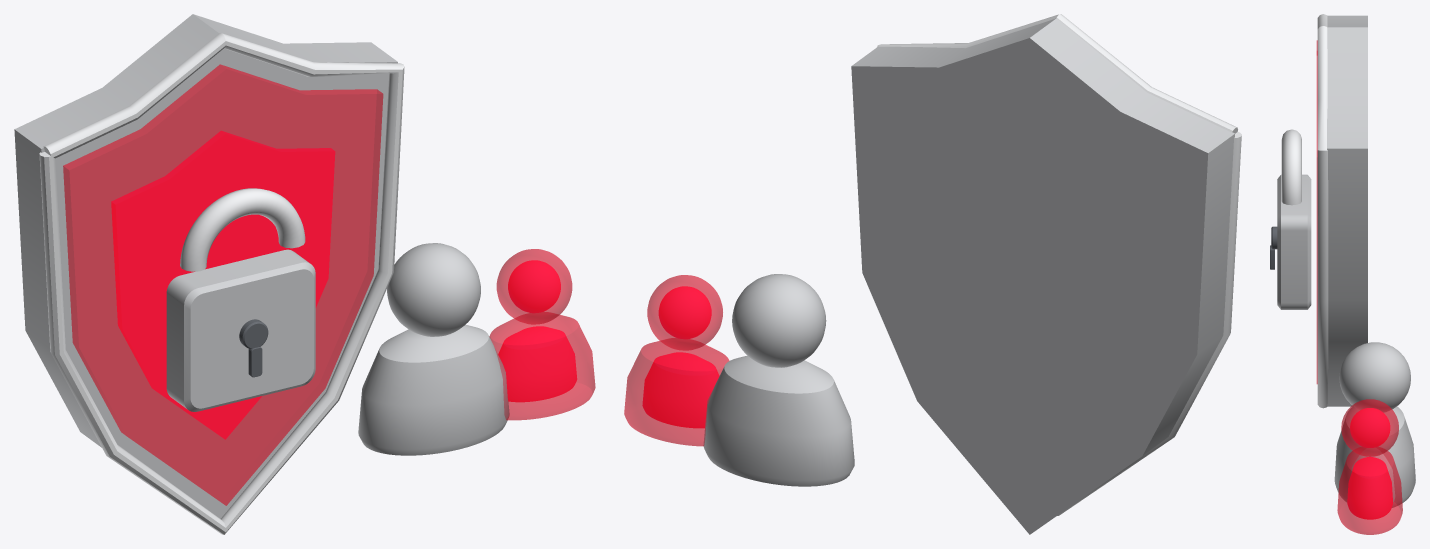
The model's file is 37-access-control.glb.
3 renders of one model, left to right at view 1: azimuth 30°, elevation 25°; view 2: azimuth 150°, elevation 25°; view 3: azimuth 270°, elevation 25°, orthographic. The views are drawn at different scales.
Parts seen in each view (by area): view 1: BC satin iron, BC ruby optical glass, BC internal ruby light, BC polished iron bevel, BC recessed iron; view 2: BC satin iron, BC ruby optical glass, BC internal ruby light, BC polished iron bevel; view 3: BC satin iron, BC ruby optical glass, BC polished iron bevel, BC internal ruby light, BC recessed iron.
Boxes of the visible parts, left/top/right/bottom form: BC satin iron: left=14, top=14, right=509, bottom=518; BC ruby optical glass: left=63, top=64, right=595, bottom=505; BC internal ruby light: left=111, top=130, right=576, bottom=439; BC polished iron bevel: left=39, top=33, right=404, bottom=534; BC recessed iron: left=239, top=319, right=268, bottom=377; BC satin iron: left=703, top=18, right=1234, bottom=534; BC ruby optical glass: left=624, top=275, right=729, bottom=446; BC internal ruby light: left=642, top=286, right=719, bottom=428; BC polished iron bevel: left=877, top=14, right=1241, bottom=515; BC satin iron: left=1277, top=15, right=1415, bottom=507; BC ruby optical glass: left=1316, top=40, right=1402, bottom=534; BC polished iron bevel: left=1281, top=14, right=1328, bottom=408; BC internal ruby light: left=1347, top=408, right=1392, bottom=519; BC recessed iron: left=1270, top=226, right=1277, bottom=269.
Bounding box in the file's own units: 2.04 × 1.68 × 0.5784.
